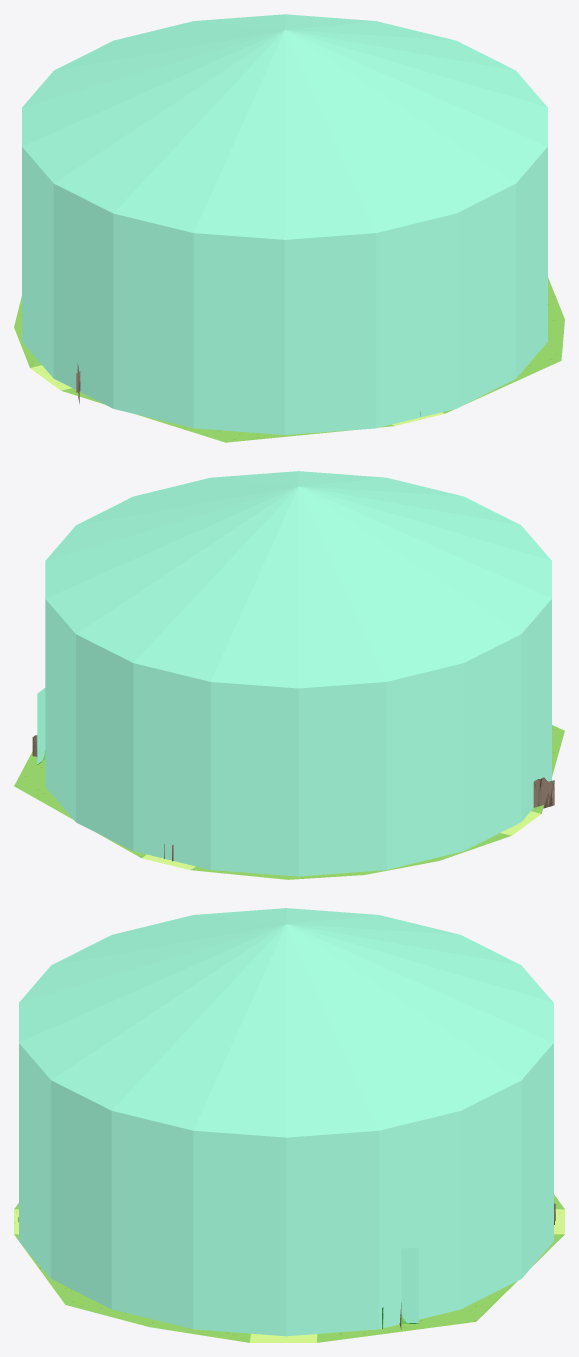
Rendered from WildberryKingdom.glb.
The picture shows the model from 3 angles, top to bottom: view 1: azimuth 30°, elevation 25°; view 2: azimuth 150°, elevation 25°; view 3: azimuth 270°, elevation 25°; orthographic projection. The views are drawn at different scales.
Visible parts, largest first — view 1: WildberryKingdom; view 2: WildberryKingdom; view 3: WildberryKingdom.
Part boxes in pixels (left/top/right/bottom): WildberryKingdom: left=14, top=14, right=564, bottom=442; WildberryKingdom: left=14, top=471, right=564, bottom=879; WildberryKingdom: left=14, top=908, right=564, bottom=1342.
Size of the model in its own units: 83.52 by 49.72 by 81.13.
6 materials, 6 textured.
